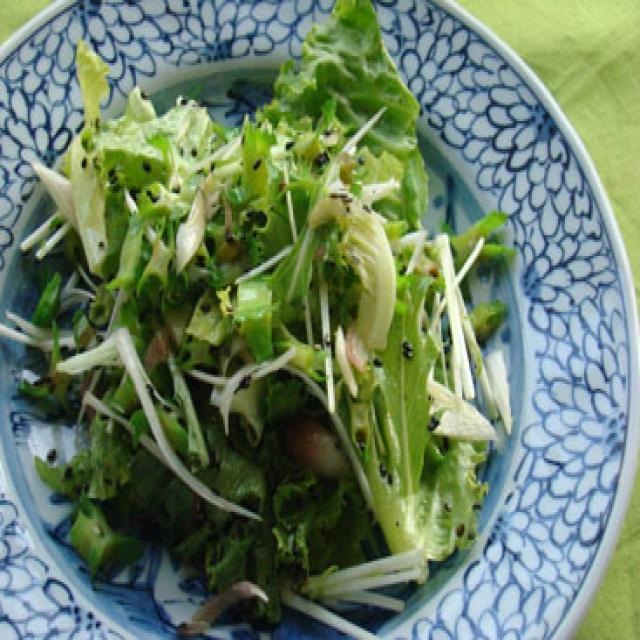Green Salad: (28, 73, 488, 609)
